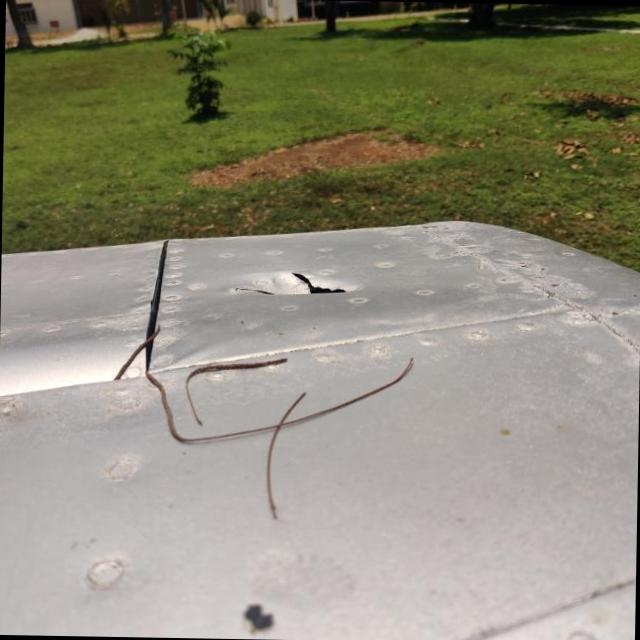Crack: (234, 270, 356, 295)
